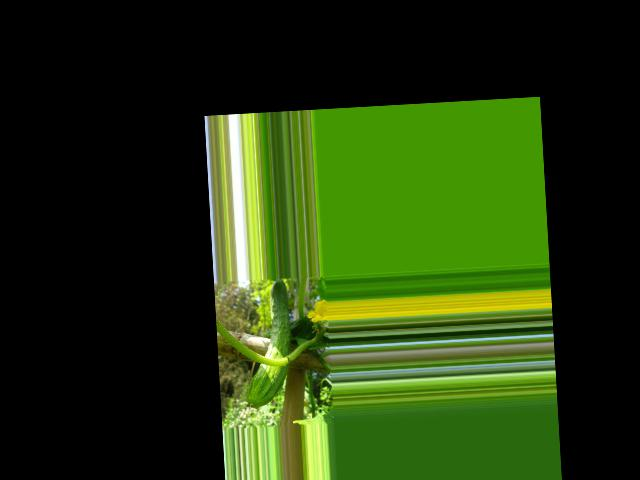cucumber: (240, 278, 294, 408)
